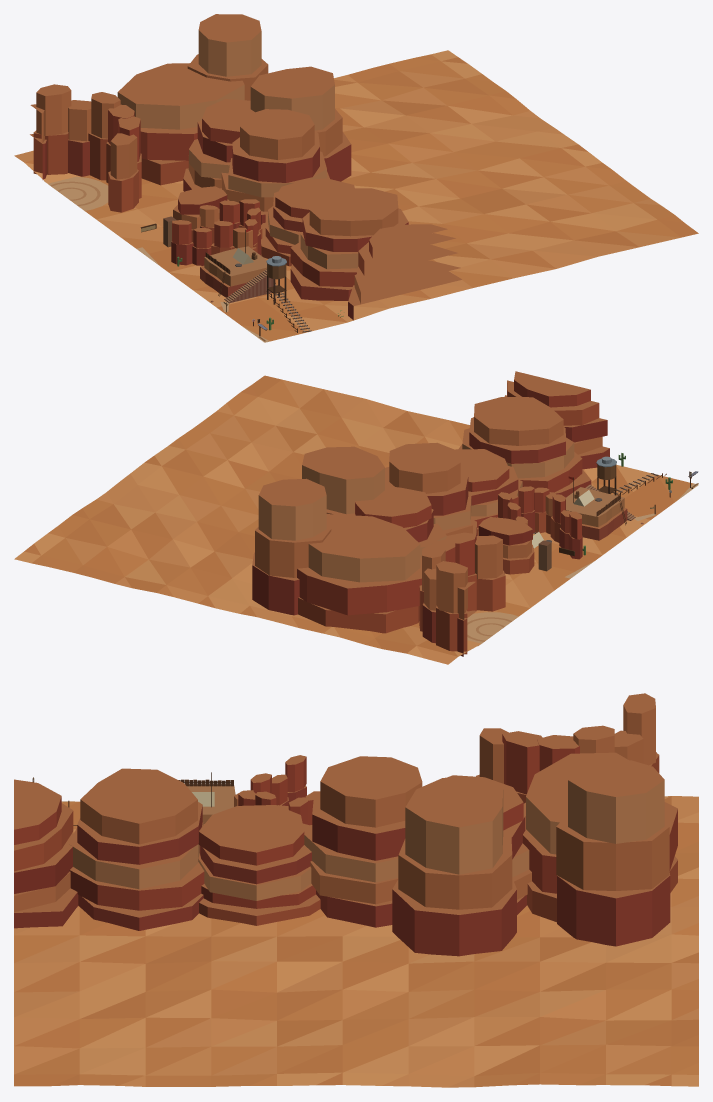
3 renders of one model, top to bottom at view 1: azimuth 30°, elevation 25°; view 2: azimuth 150°, elevation 25°; view 3: azimuth 270°, elevation 25°, orthographic. The views are drawn at different scales.
Parts seen in each view (by area): view 1: baked; view 2: baked; view 3: baked.
Part boxes in pixels (left/top/right/bottom): baked: left=14, top=14, right=698, bottom=342; baked: left=14, top=371, right=698, bottom=664; baked: left=14, top=693, right=698, bottom=1087.
Bounding box in the file's own units: 125 × 29.77 × 125.
